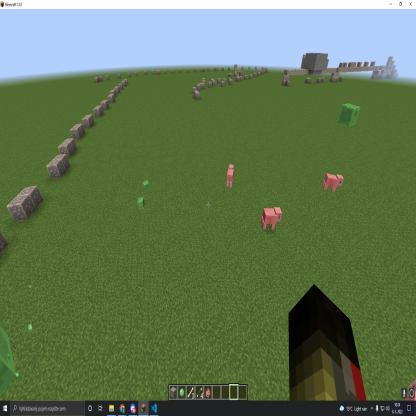pig: (262, 203, 284, 237), (223, 158, 240, 198), (322, 168, 344, 198)
